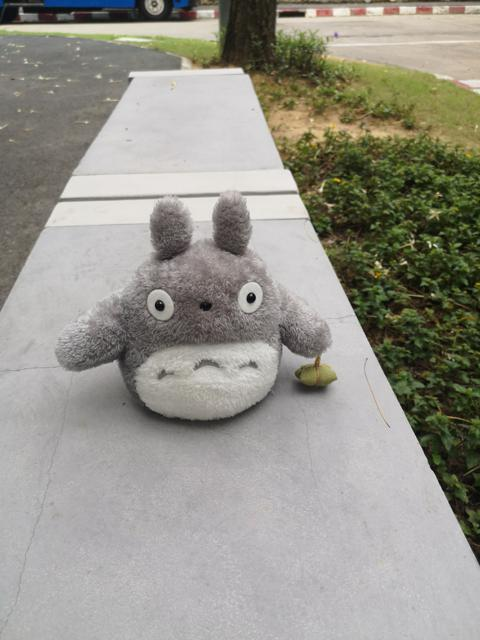totoro: (52, 186, 341, 431)
